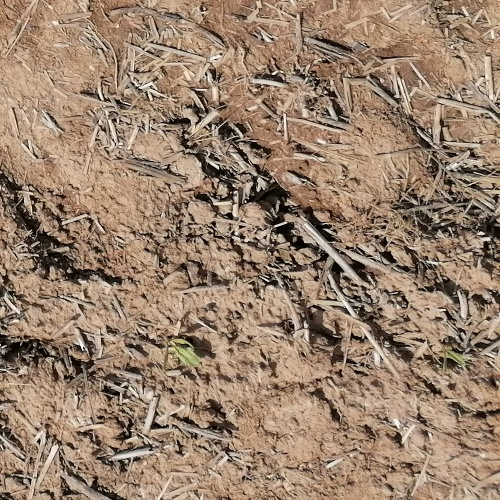beet: (163, 339, 201, 368)
